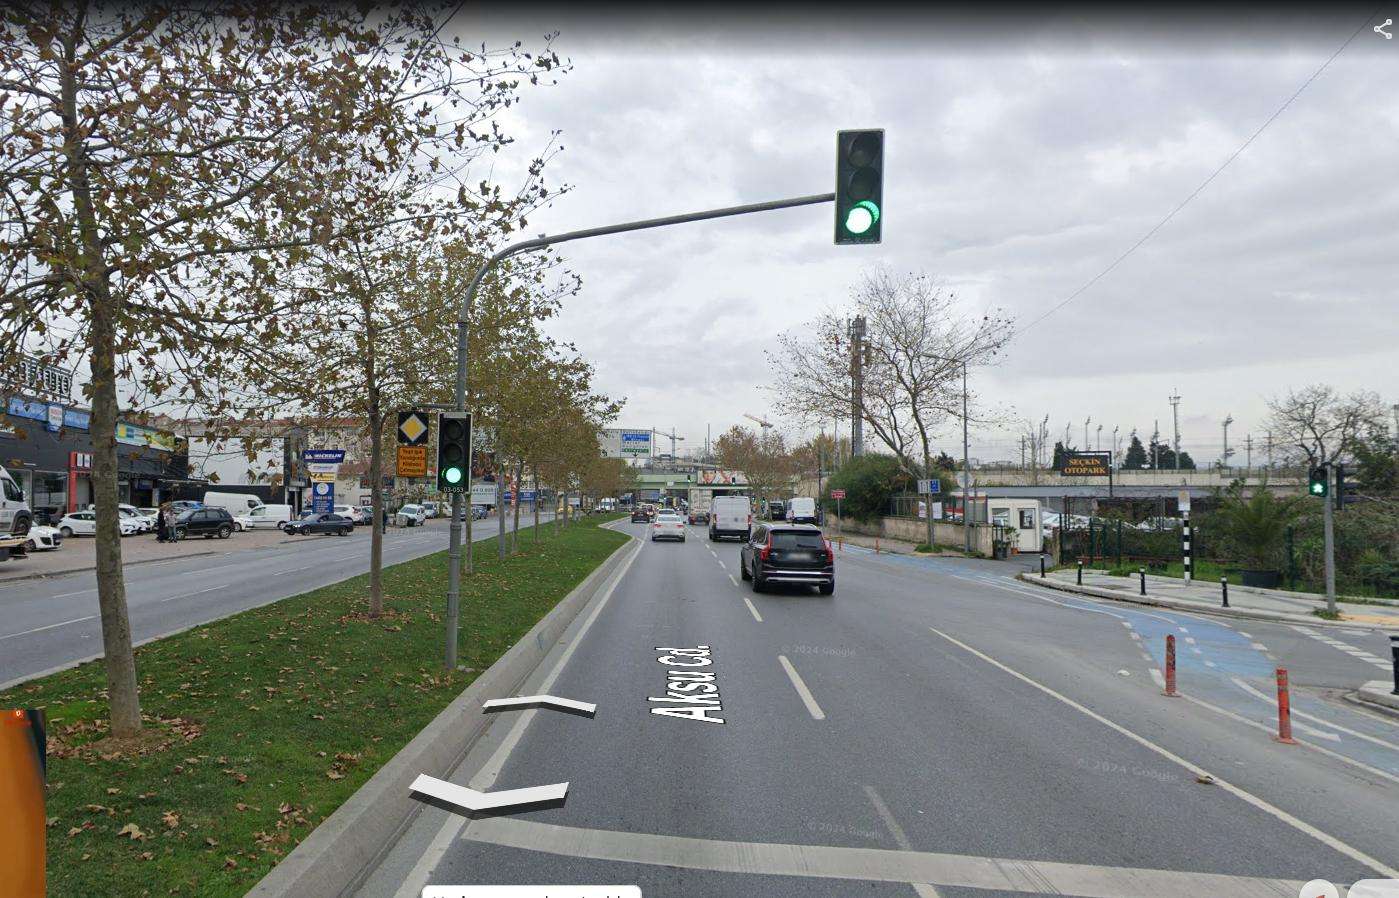greenlight: (836, 123, 886, 247), (432, 409, 467, 487)
